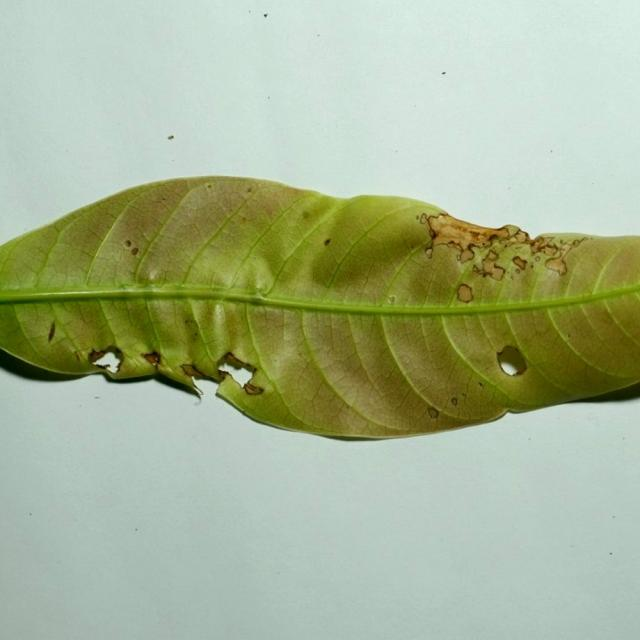Anthracnose: (486, 358, 542, 400), (443, 220, 485, 268), (494, 344, 531, 382), (89, 345, 124, 372), (477, 251, 507, 282), (229, 363, 260, 391), (529, 236, 563, 257), (225, 353, 256, 374), (181, 363, 214, 382), (545, 258, 567, 276), (456, 283, 474, 303), (141, 351, 161, 368), (89, 349, 107, 363), (511, 256, 528, 270), (217, 369, 232, 383), (427, 223, 438, 240), (48, 323, 56, 342), (73, 350, 84, 362), (487, 233, 500, 243), (427, 407, 438, 418), (419, 213, 429, 224), (424, 248, 433, 258), (131, 248, 139, 256), (388, 295, 396, 303), (451, 397, 458, 405), (124, 240, 131, 247), (324, 239, 331, 246)
Mango: (0, 176, 639, 445)
